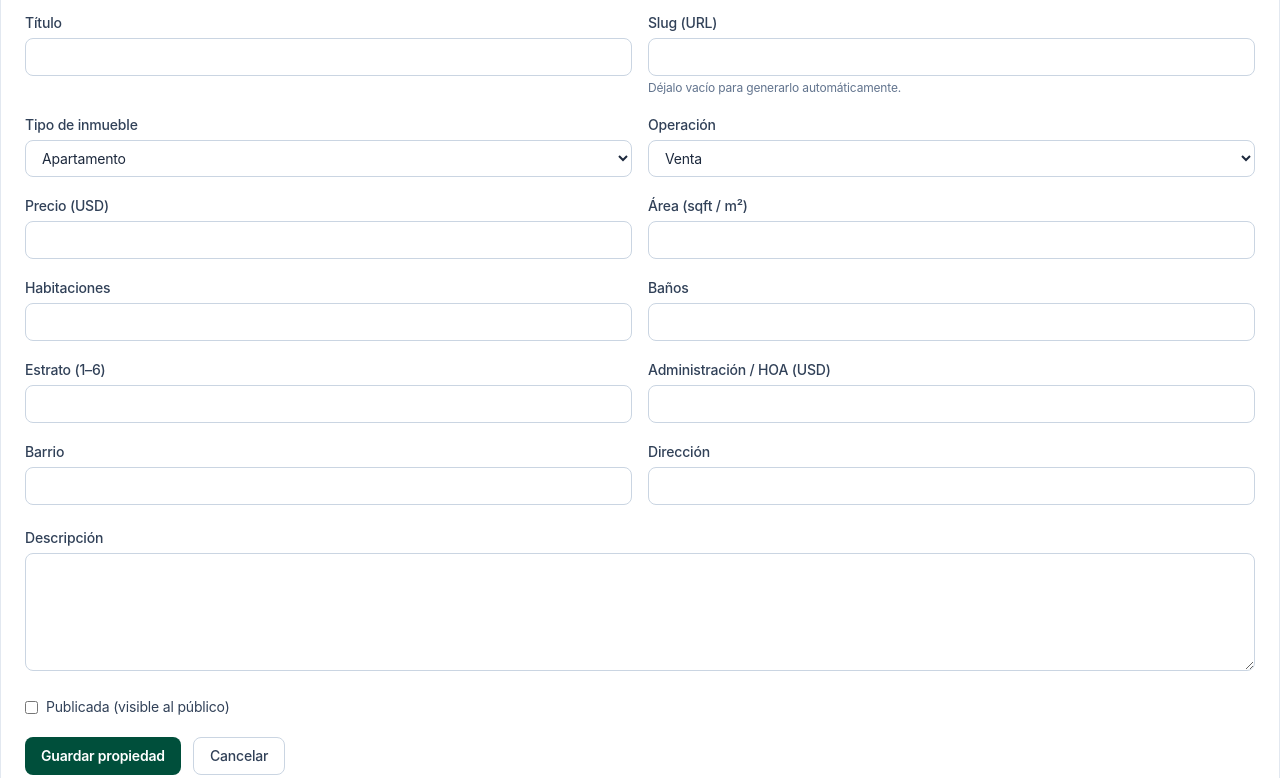
ListingForm › blocks submission and shows localized errors for missing required fields
(page scrolled)
Click the button "Guardar propiedad". click: (103, 756)
box: [25,737,181,775]
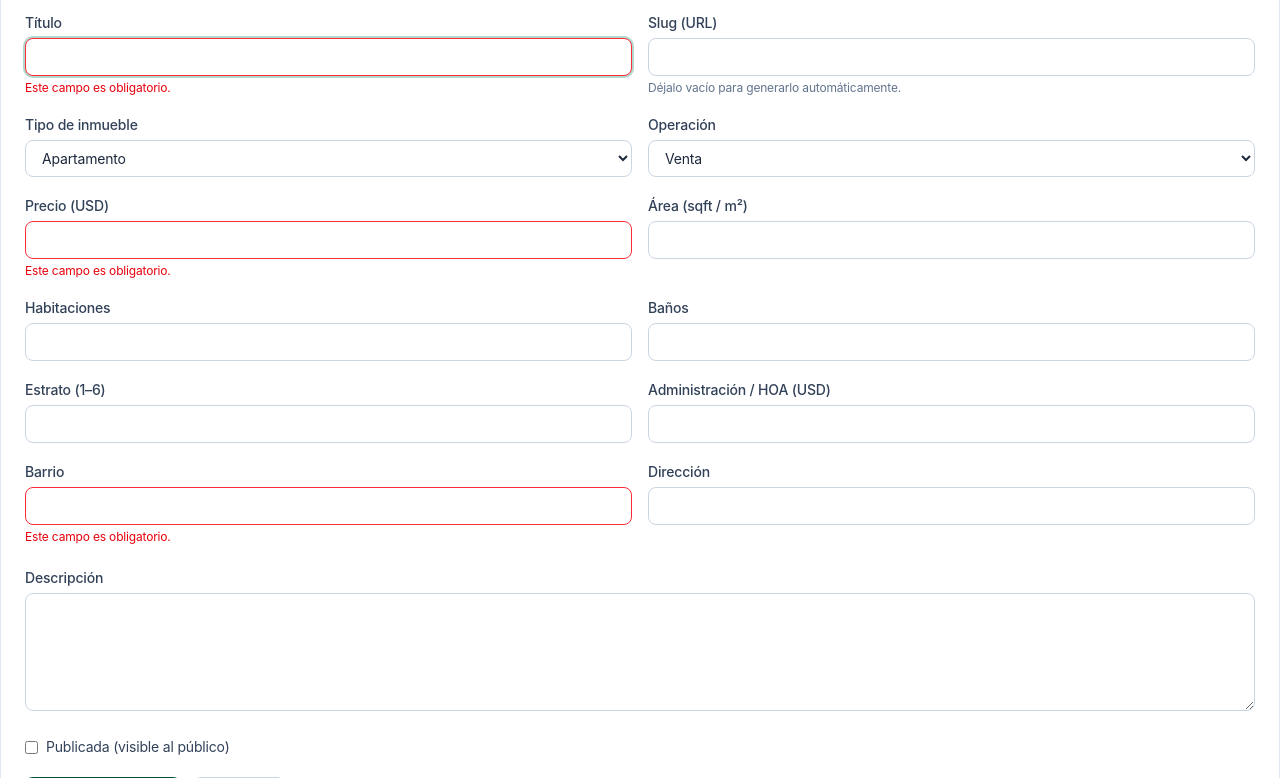
Expected: the text "Este campo es obligatorio." is shown 3 times, [25,80,171,95]; [25,263,171,278]; [25,529,171,544]
